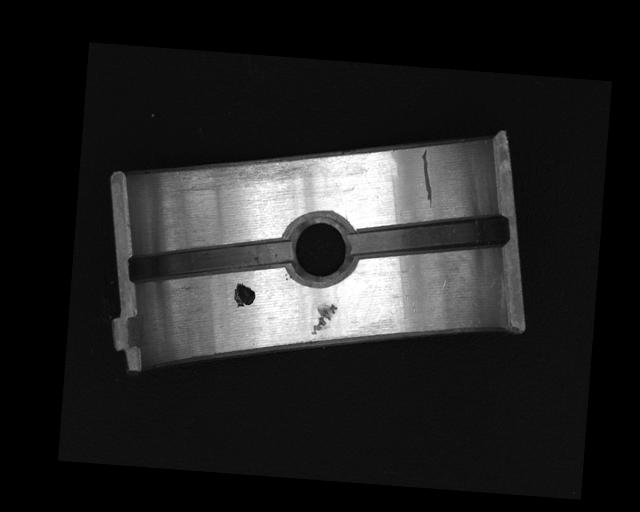blot: (232, 282, 256, 309)
bruise: (310, 302, 337, 337)
gap: (127, 227, 292, 293), (347, 204, 507, 267)
hole: (282, 210, 359, 287)
nick: (417, 147, 436, 209)
scratch: (173, 145, 325, 203)
